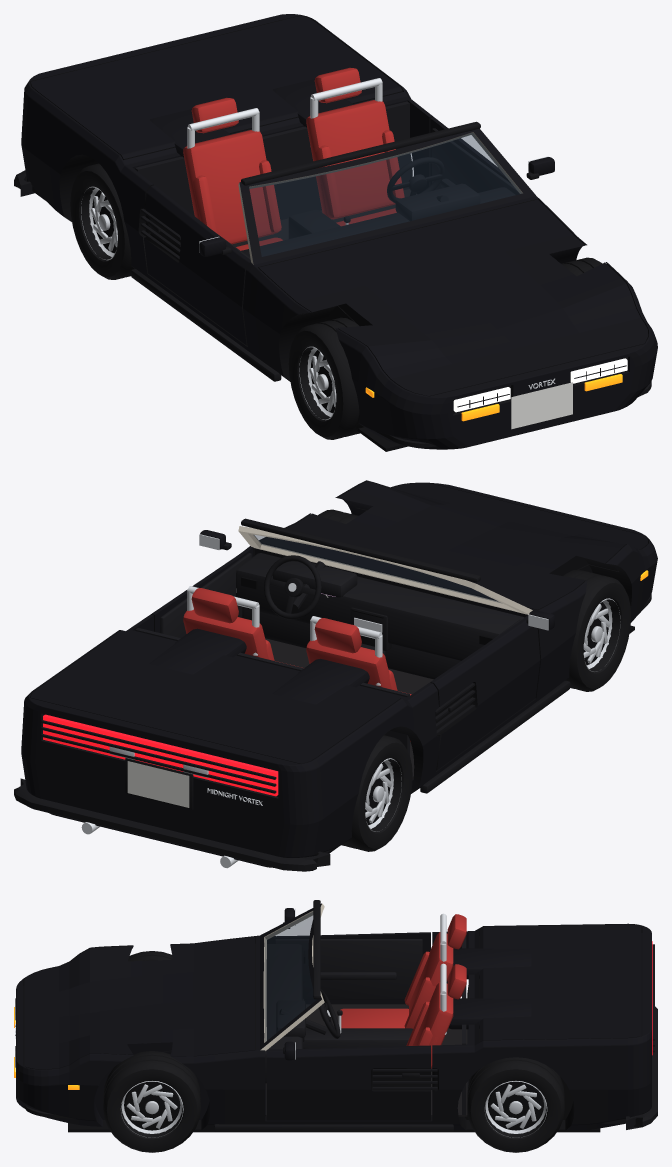
File: midnight-vortex.glb
The picture shows the model from 3 angles, top to bottom: view 1: azimuth 30°, elevation 25°; view 2: azimuth 150°, elevation 25°; view 3: azimuth 270°, elevation 25°; orthographic projection. The views are drawn at different scales.
Parts seen in each view (by area): view 1: Body, Hood, Interior, Trunk, Windows, Door_FR, Tire_FR, Tire_RR, Lights, DoorCard_FL, Plate_F, Rim_RR (+3 smaller); view 2: Body, Interior, Hood, Trunk, Door_FR, Lights, Tire_FR, Tire_RR, Windows, Plate_R, SteeringWheel, DoorCard_FL (+3 smaller); view 3: Body, Hood, Trunk, Interior, Door_FL, DoorCard_FR, Tire_FL, Tire_RL, Windows, Rim_FL, Rim_RL, Door_FR (+3 smaller).
Boxes of the visible parts, x1=… form: Body: x1=14, y1=14, x2=657, y2=449; Hood: x1=258, y1=199, x2=648, y2=396; Interior: x1=135, y1=67, x2=515, y2=257; Trunk: x1=30, y1=15, x2=402, y2=159; Windows: x1=249, y1=133, x2=521, y2=256; Door_FR: x1=143, y1=185, x2=251, y2=345; Tire_FR: x1=288, y1=317, x2=363, y2=439; Tire_RR: x1=70, y1=163, x2=134, y2=279; Lights: x1=365, y1=358, x2=627, y2=421; DoorCard_FL: x1=432, y1=128, x2=519, y2=194; Plate_F: x1=511, y1=382, x2=572, y2=429; Rim_RR: x1=81, y1=186, x2=117, y2=260; Body: x1=14, y1=480, x2=657, y2=871; Interior: x1=135, y1=553, x2=524, y2=778; Hood: x1=260, y1=481, x2=648, y2=609; Trunk: x1=30, y1=630, x2=400, y2=763; Door_FR: x1=430, y1=610, x2=554, y2=770; Lights: x1=43, y1=570, x2=648, y2=796; Tire_FR: x1=563, y1=569, x2=630, y2=691; Tire_RR: x1=341, y1=735, x2=412, y2=851; Windows: x1=254, y1=535, x2=500, y2=602; Plate_R: x1=127, y1=761, x2=189, y2=807; SteeringWheel: x1=264, y1=555, x2=321, y2=619; DoorCard_FL: x1=160, y1=553, x2=251, y2=637; Body: x1=15, y1=900, x2=657, y2=1132; Hood: x1=24, y1=936, x2=254, y2=1069; Trunk: x1=479, y1=924, x2=641, y2=1041; Interior: x1=265, y1=914, x2=467, y2=1116; Door_FL: x1=266, y1=1041, x2=430, y2=1120; DoorCard_FR: x1=275, y1=939, x2=422, y2=999; Tire_FL: x1=103, y1=1051, x2=200, y2=1152; Tire_RL: x1=467, y1=1057, x2=564, y2=1152; Windows: x1=264, y1=912, x2=316, y2=1041; Rim_FL: x1=120, y1=1081, x2=183, y2=1137; Rim_RL: x1=484, y1=1081, x2=547, y2=1137; Door_FR: x1=267, y1=908, x2=430, y2=1004.
Size of the model in its own units: 2.29 by 1.12 by 4.35.
